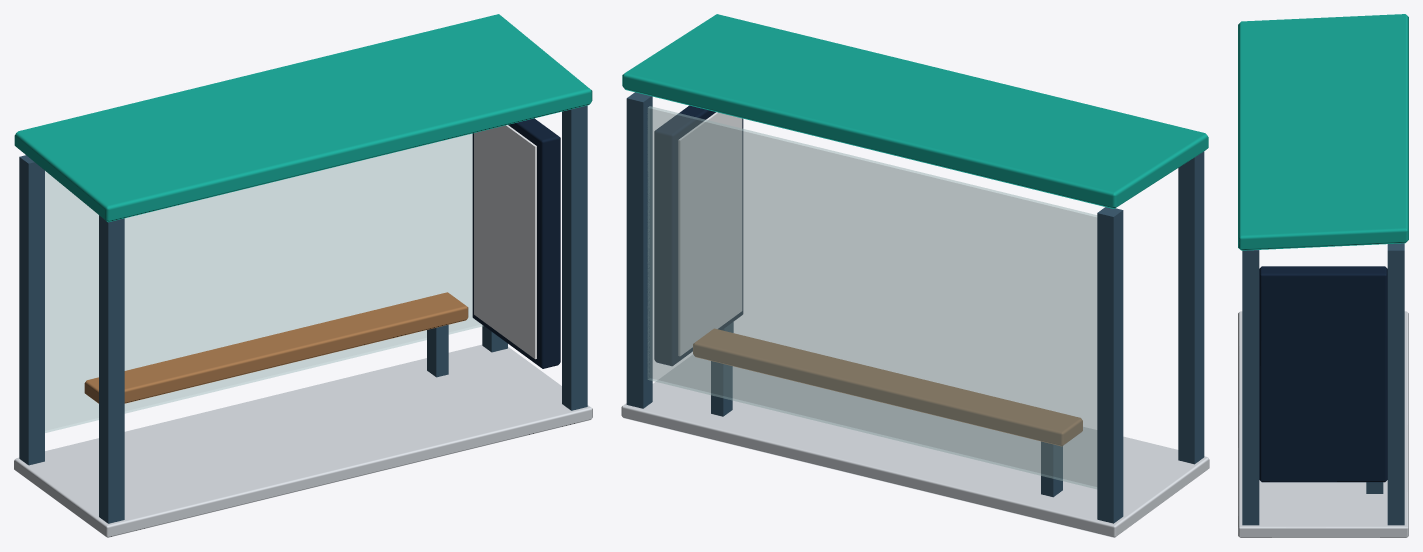
Rendered from CM_Prop_BusStop.fbx.
3 renders of one model, left to right at view 1: azimuth 30°, elevation 25°; view 2: azimuth 150°, elevation 25°; view 3: azimuth 270°, elevation 25°, orthographic. The views are drawn at different scales.
Visible parts, largest first — view 1: Body, Glass, Face; view 2: Body, Glass, Face; view 3: Body.
Part boxes in pixels (box(x1,y1,x2,y2)): Body: box(14, 14, 592, 537); Glass: box(45, 134, 483, 432); Face: box(474, 125, 536, 359); Body: box(621, 14, 1209, 537); Glass: box(647, 106, 1097, 489); Face: box(678, 112, 742, 356); Body: box(1238, 14, 1408, 537).
Bounding box in the file's own units: 12 × 4 × 8.
2 materials, 2 textured.
